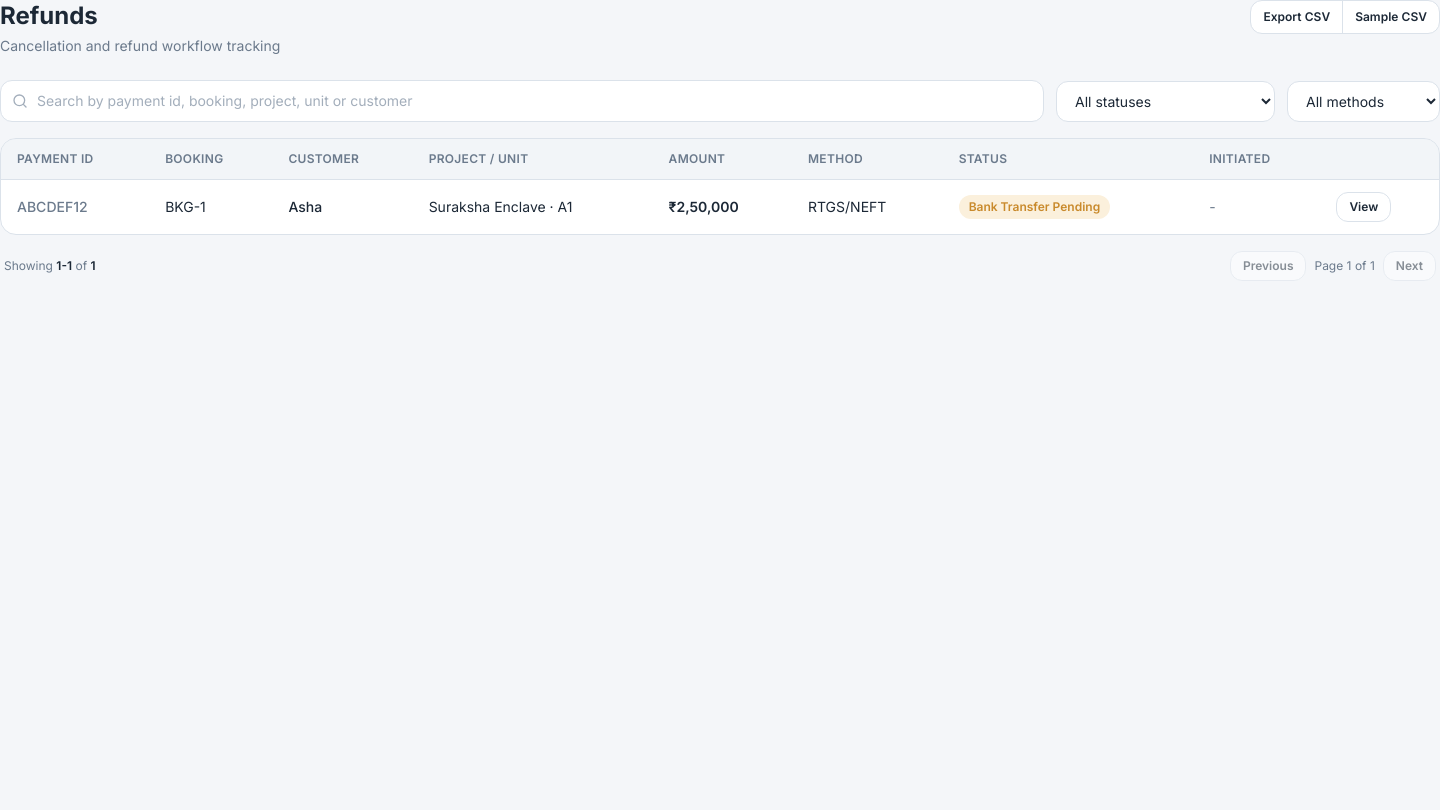
Test case: RefundsPage - a refund paid back by hand › keeps the bank-transfer wording for RTGS/NEFT
Click the button "View" at x=1364, y=207, box x1=1336 y1=192 x2=1391 y2=222
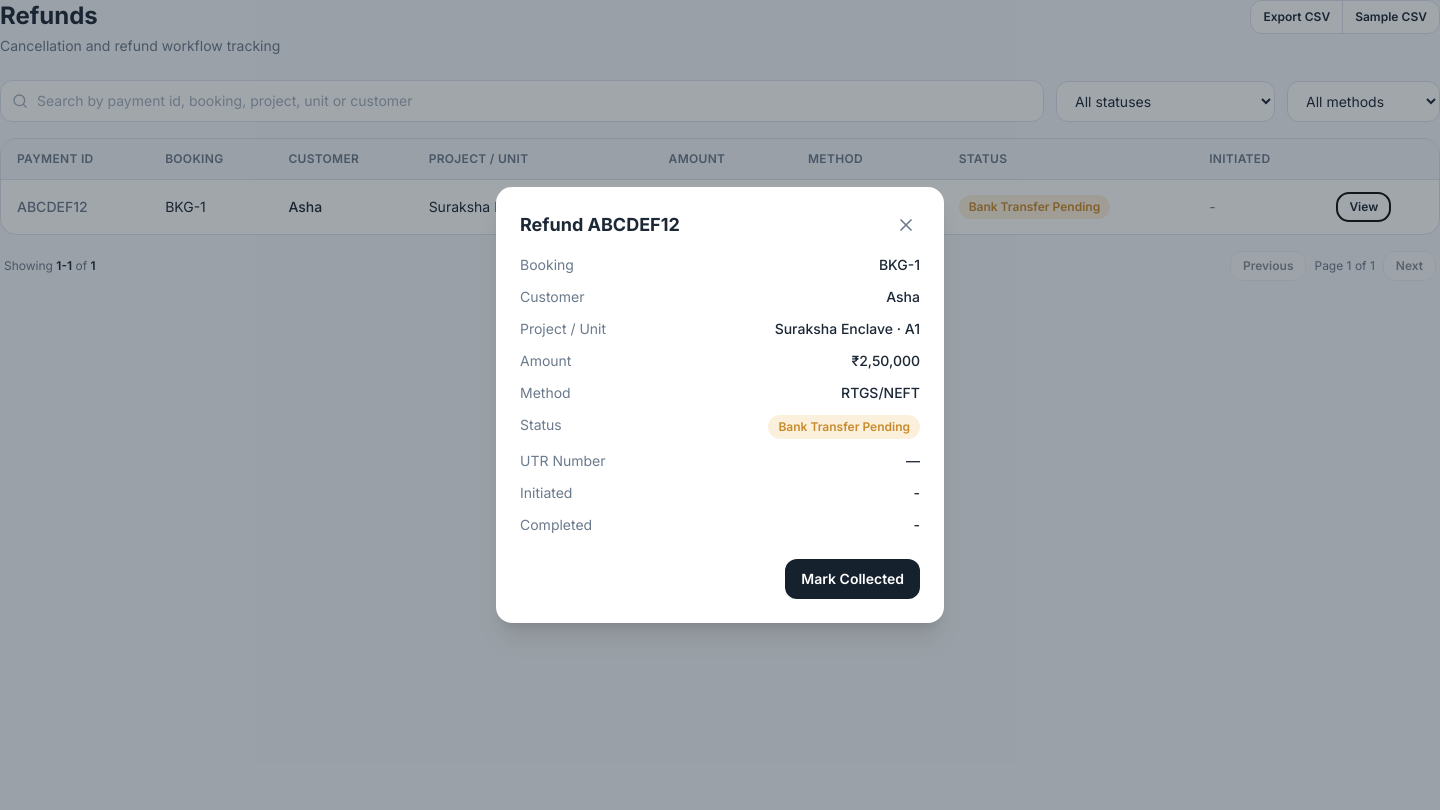
Expected: the heading "Refund ABCDEF12" is shown, x1=520 y1=211 x2=680 y2=239
Expected: the button "Mark Collected" is shown, x1=785 y1=559 x2=920 y2=599
